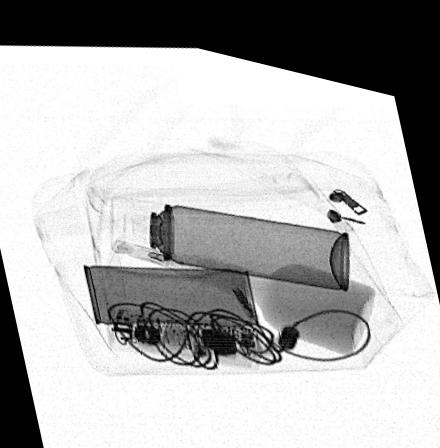Sprayer: (110, 190, 349, 273)
